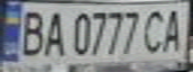0: (66, 8, 90, 56)
7: (121, 7, 145, 55), (87, 8, 109, 56), (106, 8, 127, 56)
A: (157, 6, 190, 54), (39, 7, 69, 57)
B: (15, 6, 48, 57)
C: (139, 7, 169, 55)
